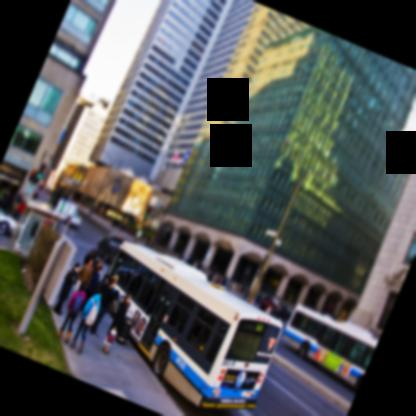backpack: (69, 289, 85, 316), (84, 305, 97, 325)
handbag: (105, 329, 117, 343)
